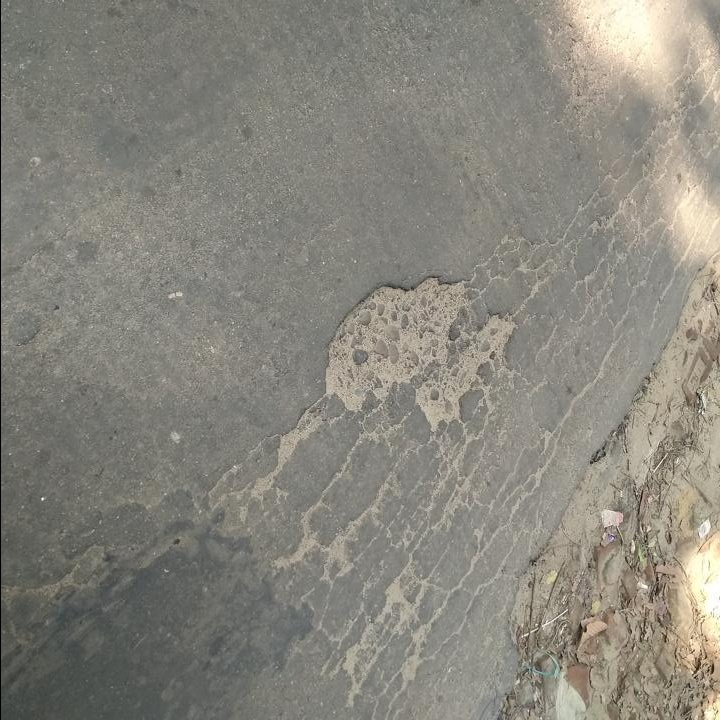pothole: (323, 267, 519, 436)
